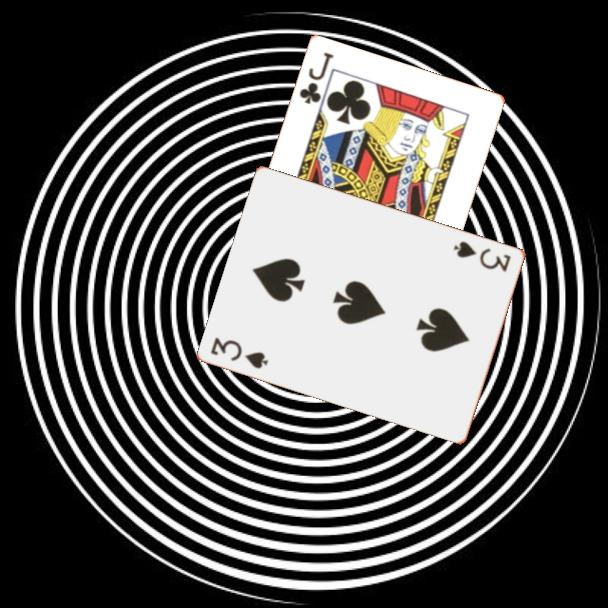c11: (296, 49, 337, 108)
s03: (207, 333, 272, 371), (450, 237, 514, 275)
